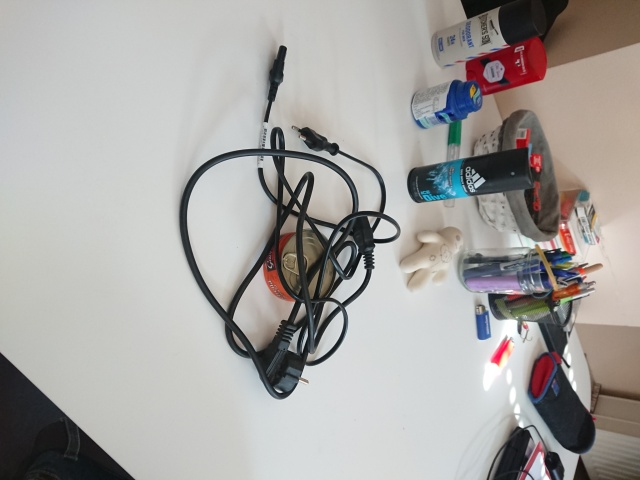Gavrilovic Pork Liver Pate 100g: (261, 226, 338, 306)
